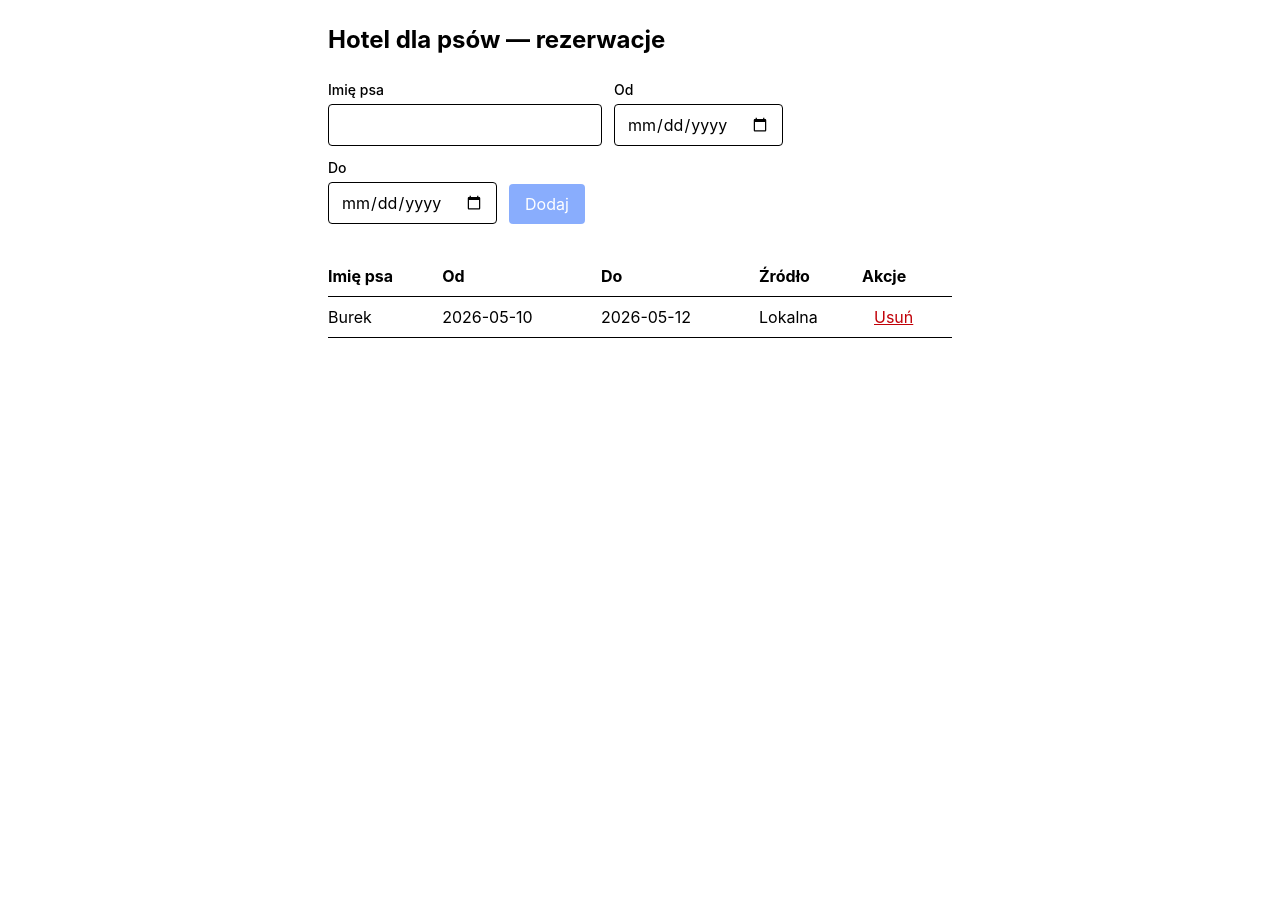
Test case: Reservation list › opens a dog-specific delete confirmation dialog from a row action
Click the button with aria-label "Usuń rezerwację dla Burek". click: (894, 317)
box: [874,305,913,329]
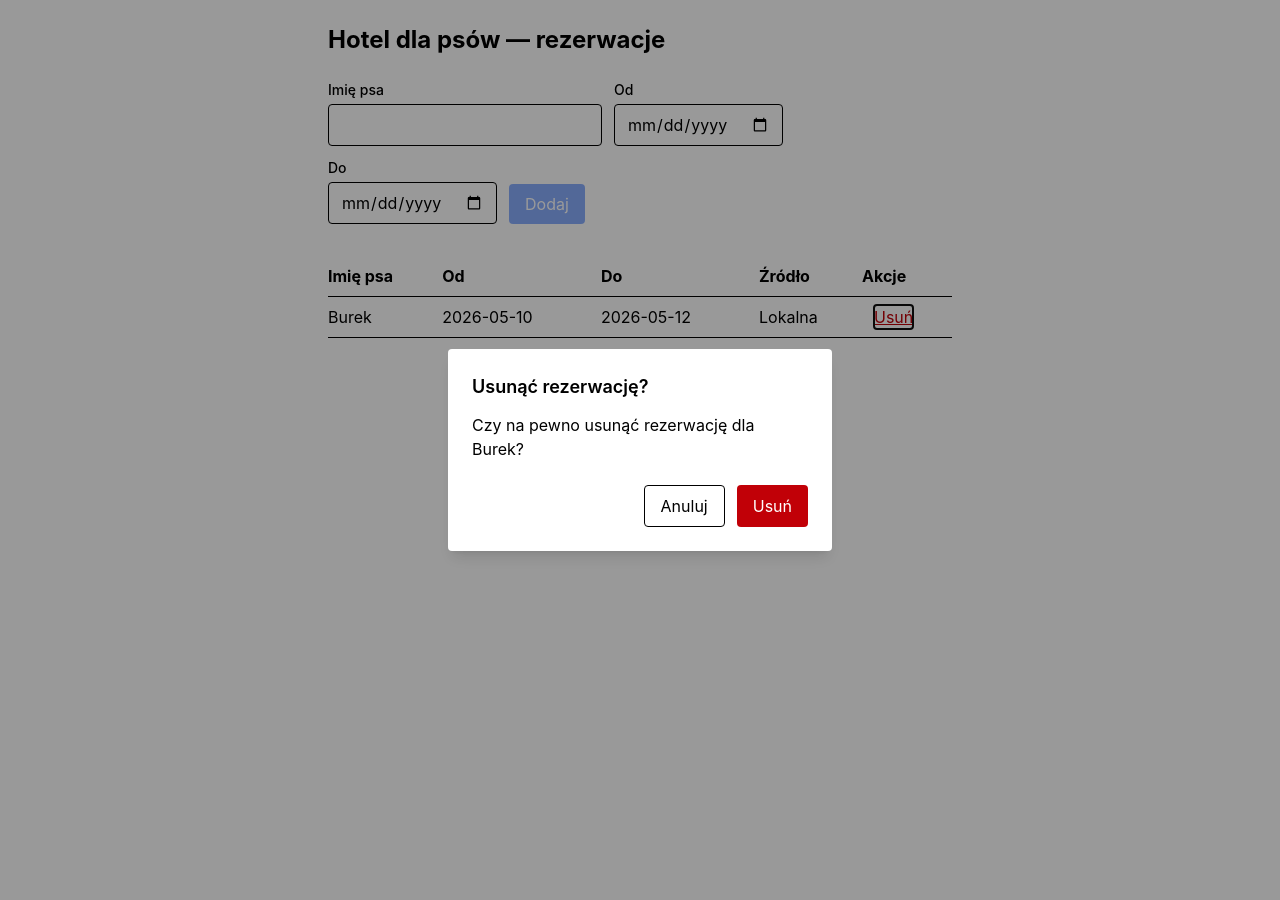
Now the dialog "Usunąć rezerwację" shows "Burek", box [472,415,754,459]
Now the button "Anuluj" is shown, box [644,485,725,527]
Now the button "Usuń" is shown, box [737,485,808,527]
